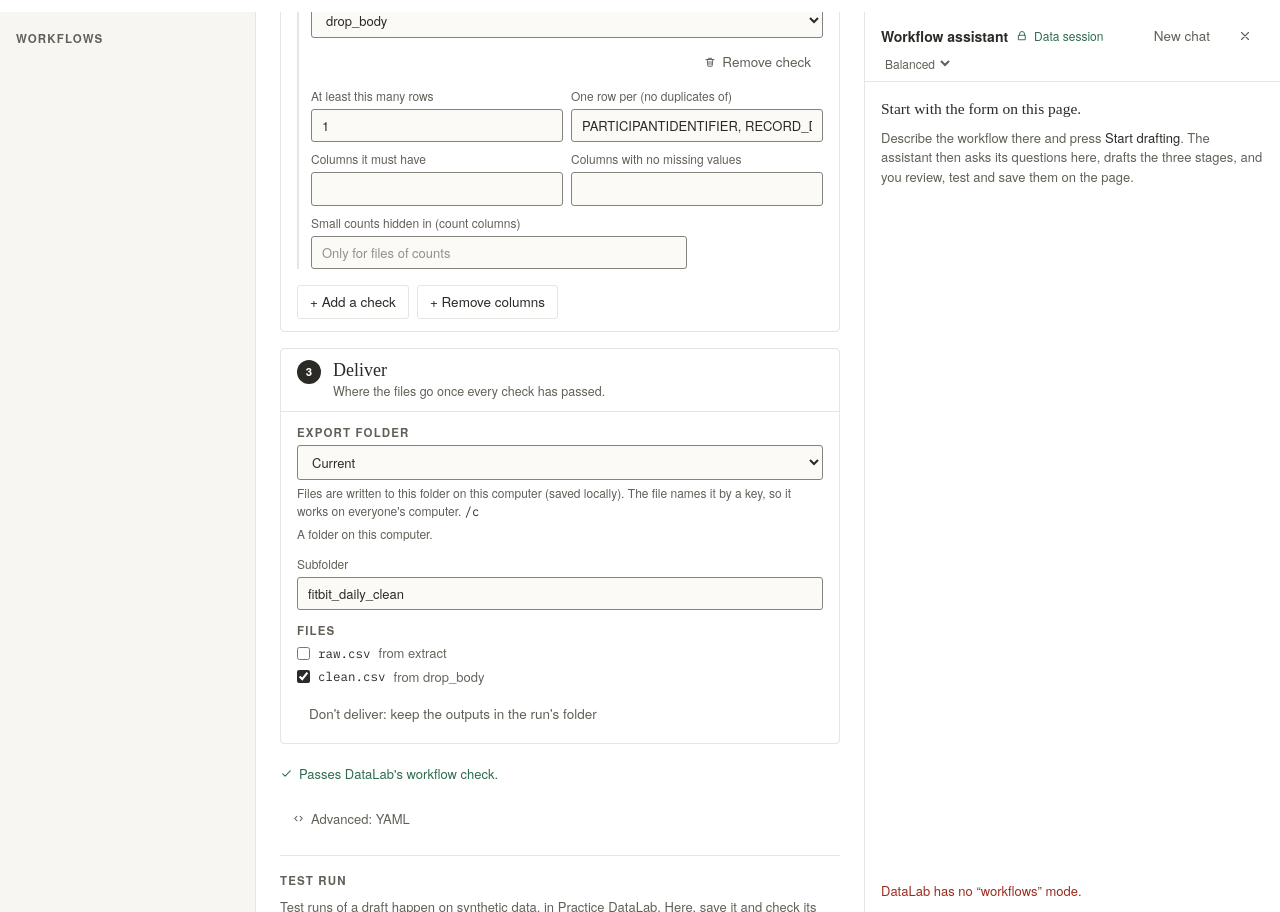
Test: offers the confirm a refused Save asks for, naming the workflows it gives
(page scrolled)
Select "Lab exports" in the dropdown labelled "Export folder" at point(560, 462), box [297,445,823,480]
(page scrolled)
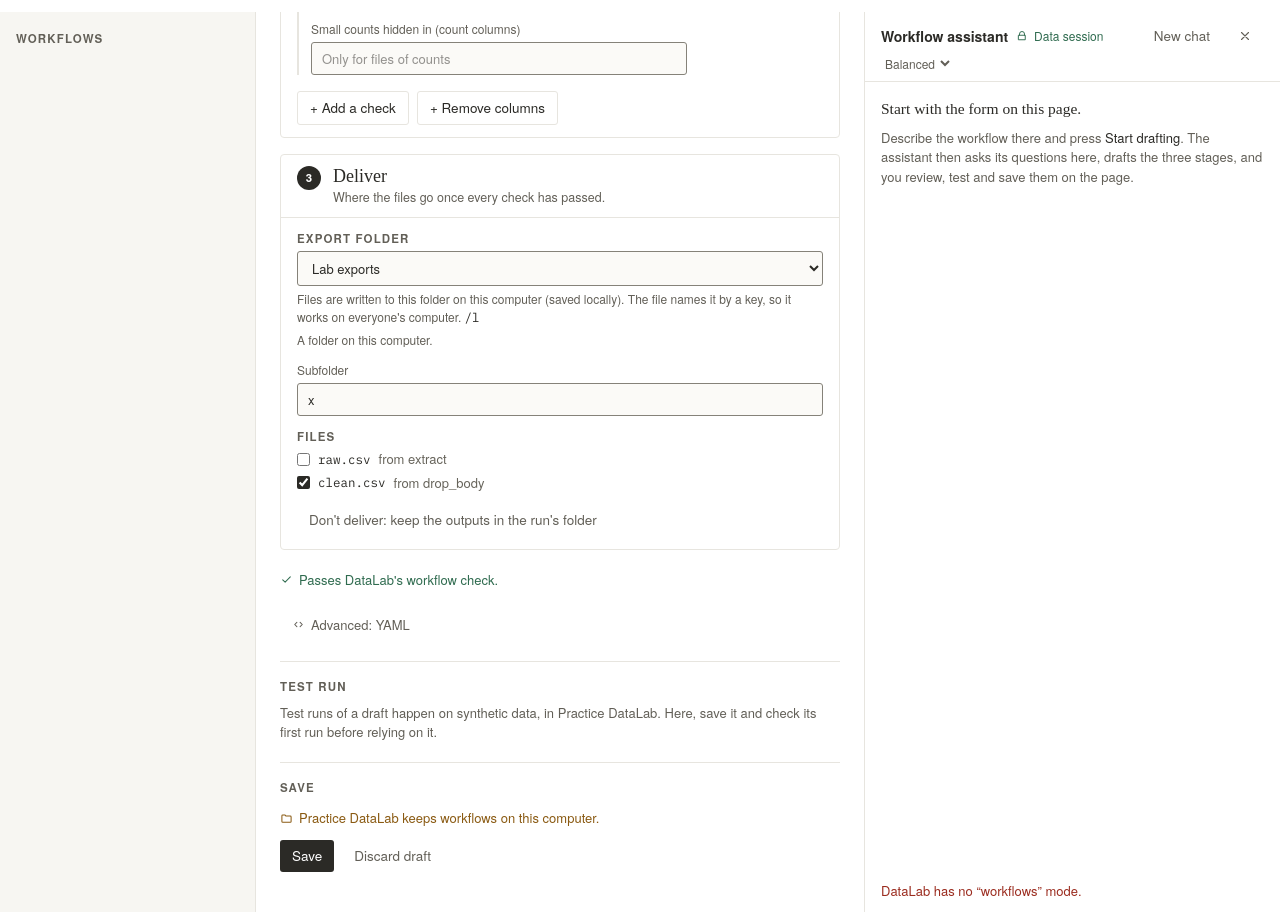
Expected: the text "Passes DataLab's workflow check." is shown, [280,570,498,588]
Click the button "Save".
click(307, 856)  # box [280,840,334,872]
(page scrolled)
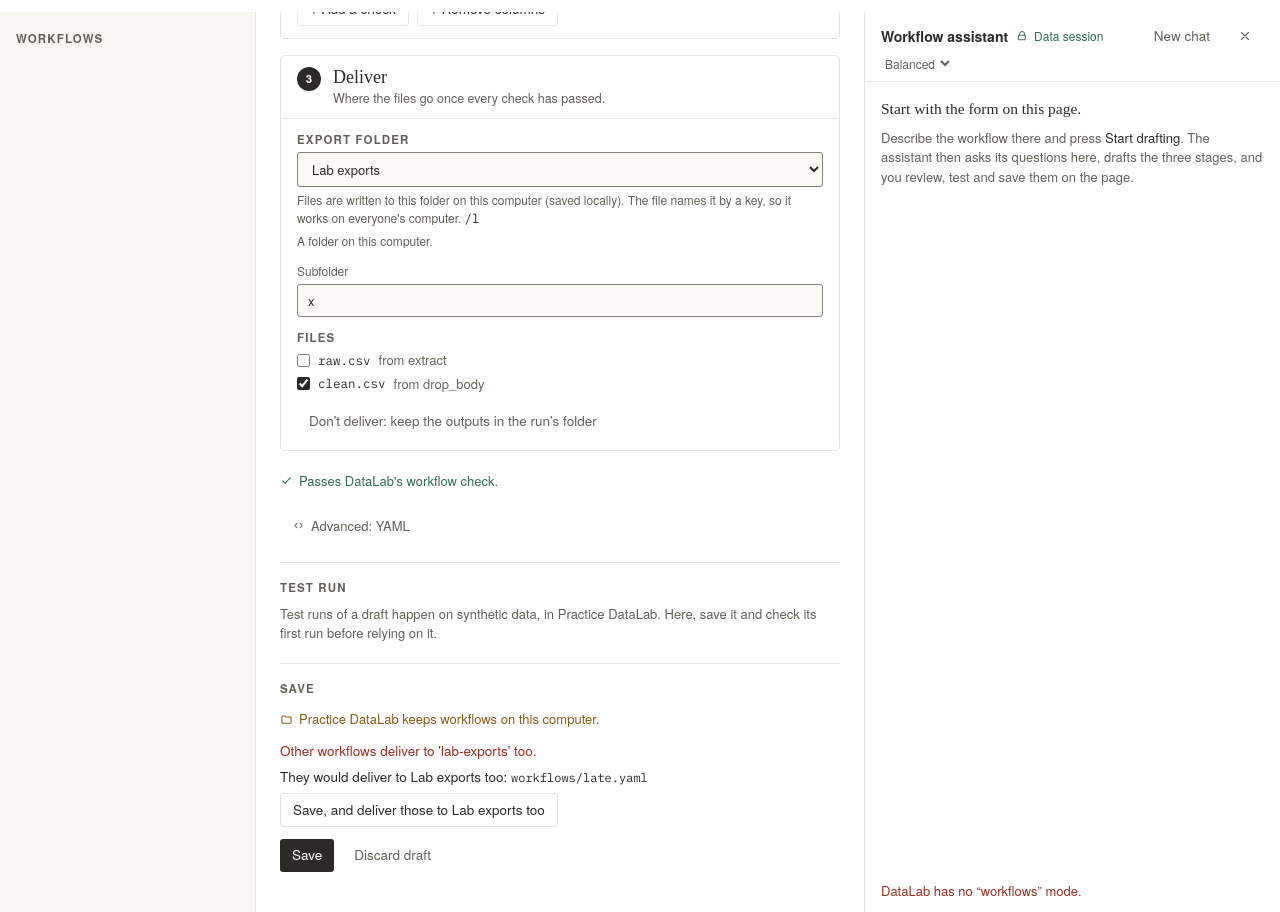
Expected: the text "workflows/late.yaml" is shown, [511,770,648,785]
Click the button "Save, and deliver those to Lab exports too".
click(419, 810)  # box [280,793,558,827]
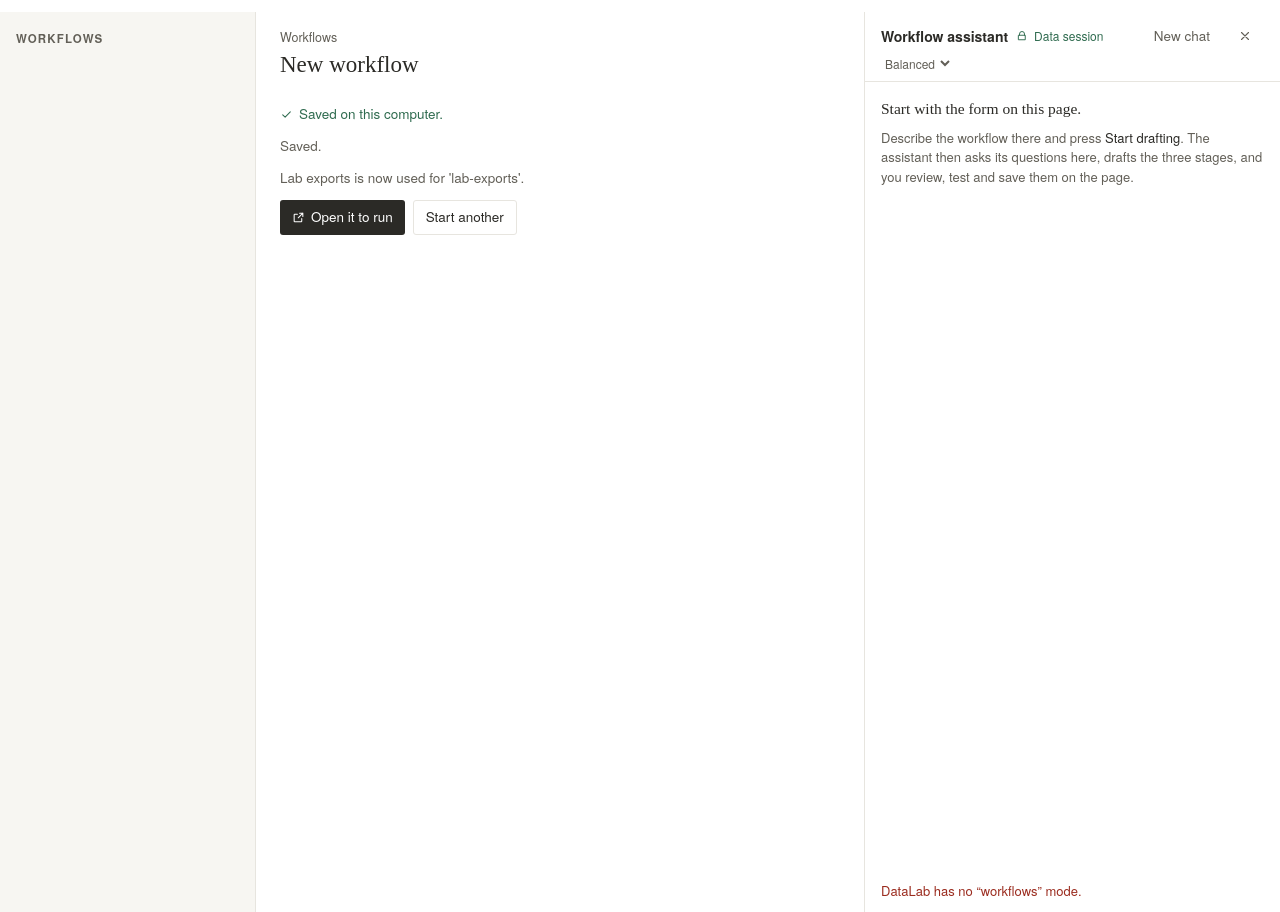
Expected: the text "Lab exports is now used for 'lab-exports'." is shown, [280,168,524,187]
